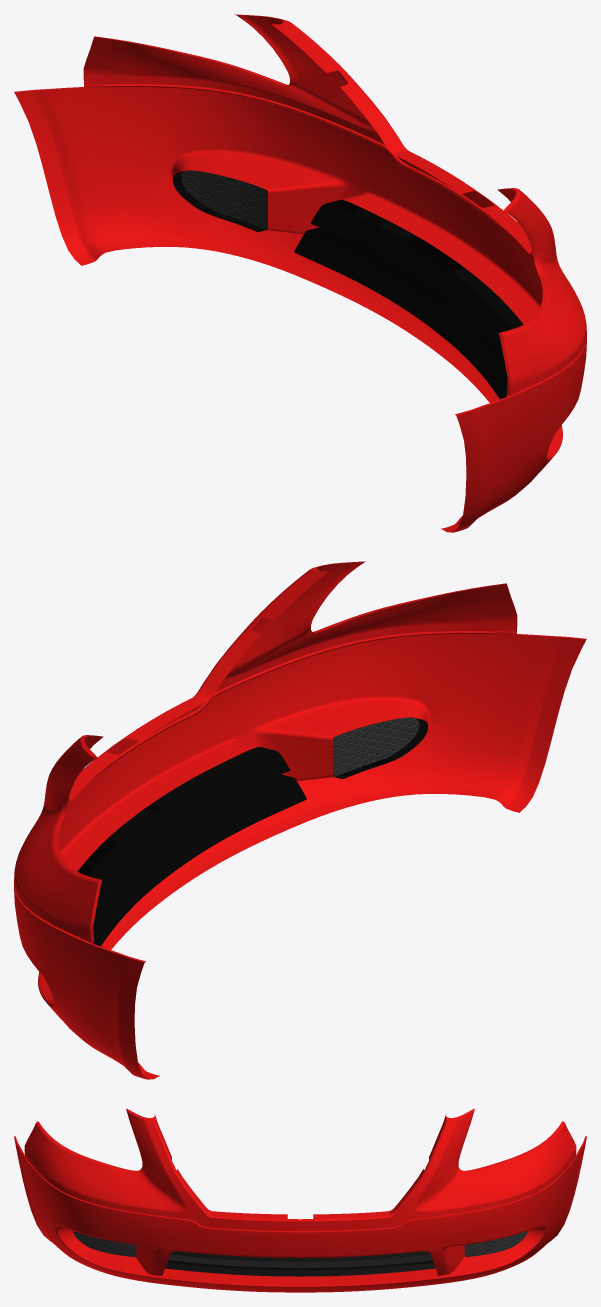
The picture shows the model from 3 angles, top to bottom: view 1: azimuth 30°, elevation 25°; view 2: azimuth 150°, elevation 25°; view 3: azimuth 270°, elevation 25°; orthographic projection. The views are drawn at different scales.
Visible parts, largest first — view 1: N664_9A_021G_C_1_DaS_N664_9A_021G_C, N664_9A_021G_C_N664_9A_021G_C_4_D, N664_9A_021G_C_1_DaS_N664_9A_021G_C_E, N664_9A_021G_C_N664_9A_021G_C_2_D; view 2: N664_9A_021G_C_1_DaS_N664_9A_021G_C, N664_9A_021G_C_N664_9A_021G_C_4_D, N664_9A_021G_C_1_DaS_N664_9A_021G_C_E, N664_9A_021G_C_N664_9A_021G_C_2_D; view 3: N664_9A_021G_C_1_DaS_N664_9A_021G_C, N664_9A_021G_C_N664_9A_021G_C_2_D, N664_9A_021G_C_1_DaS_N664_9A_021G_C_E, N664_9A_021G_C_N664_9A_021G_C_3_D.
Part boxes in pixels (bbox=[...]): N664_9A_021G_C_1_DaS_N664_9A_021G_C: bbox=[14, 14, 586, 532]; N664_9A_021G_C_N664_9A_021G_C_4_D: bbox=[173, 171, 523, 399]; N664_9A_021G_C_1_DaS_N664_9A_021G_C_E: bbox=[14, 14, 586, 459]; N664_9A_021G_C_N664_9A_021G_C_2_D: bbox=[181, 170, 267, 229]; N664_9A_021G_C_1_DaS_N664_9A_021G_C: bbox=[14, 561, 586, 1079]; N664_9A_021G_C_N664_9A_021G_C_4_D: bbox=[77, 718, 427, 946]; N664_9A_021G_C_1_DaS_N664_9A_021G_C_E: bbox=[14, 561, 586, 1006]; N664_9A_021G_C_N664_9A_021G_C_2_D: bbox=[333, 717, 419, 776]; N664_9A_021G_C_1_DaS_N664_9A_021G_C: bbox=[14, 1108, 586, 1292]; N664_9A_021G_C_N664_9A_021G_C_2_D: bbox=[73, 1231, 527, 1276]; N664_9A_021G_C_1_DaS_N664_9A_021G_C_E: bbox=[14, 1109, 586, 1286]; N664_9A_021G_C_N664_9A_021G_C_3_D: bbox=[167, 1254, 433, 1270].
Size of the model in its own units: 58.29 by 56.86 by 175.
